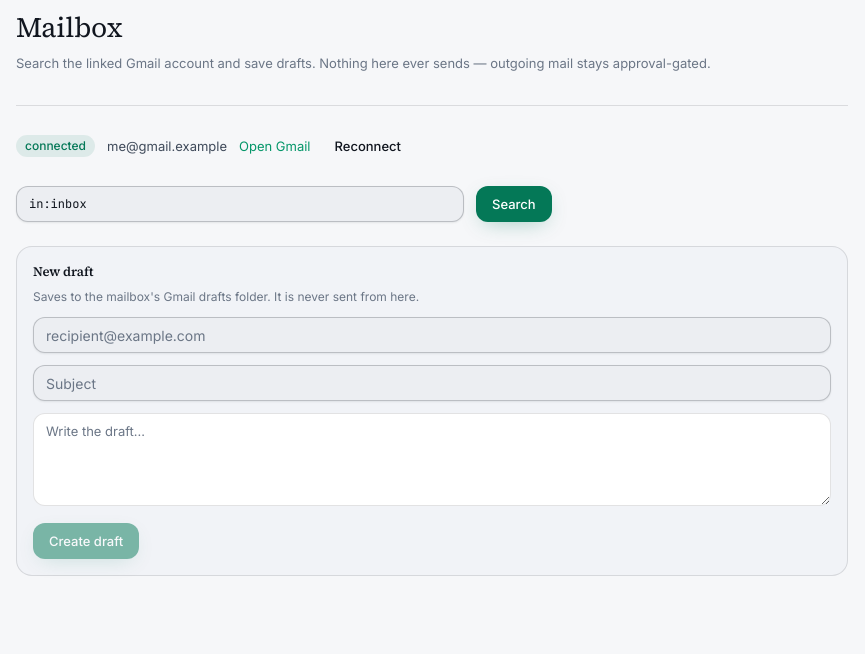
Test: MailPage search › creates a draft and reports it as a draft, not a sent mail
Check: the text "me@gmail.example" is shown, box [107,137,227,155]
Type "a@x.com" into the field named "Draft recipient" at (432, 336), box [33,318,831,354]
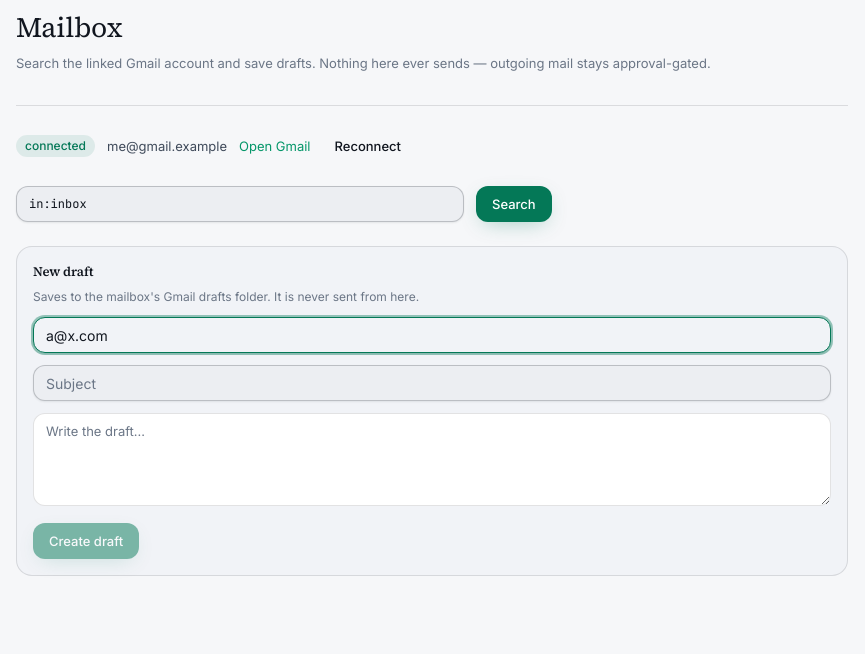
Type "Thanks for the call." into the text box named "Draft body" at (432, 460), box [33,414,831,506]
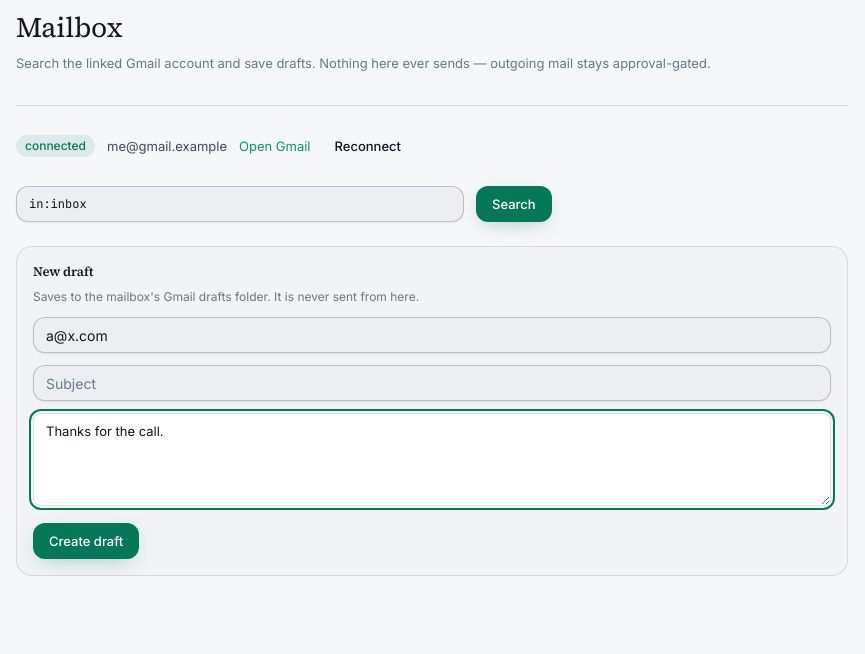
Click the button "Create draft" at (86, 541), box [33,523,139,559]
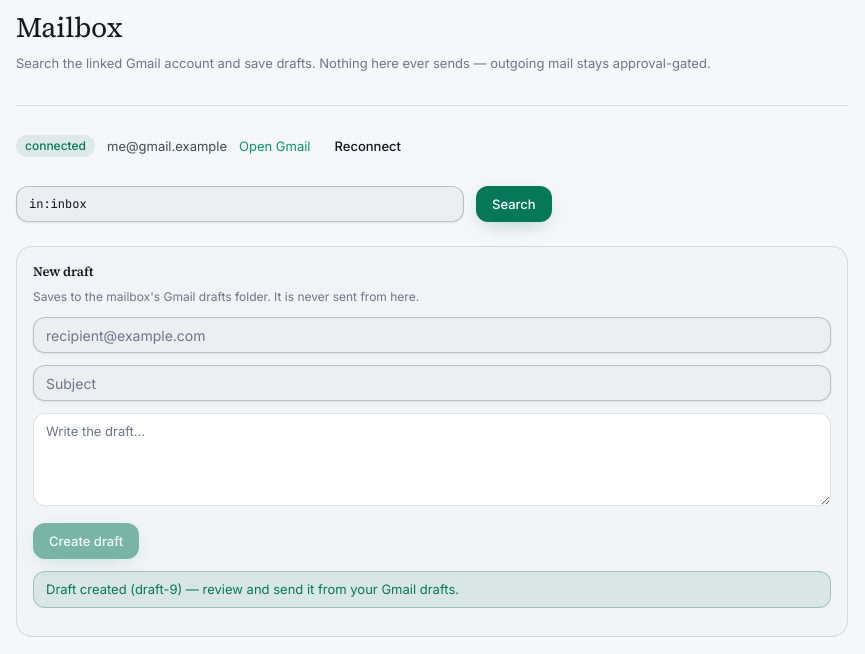
Check: the text "Draft created (draft-9) — review and send it from your Gmail drafts." is shown, box [33,571,831,608]
